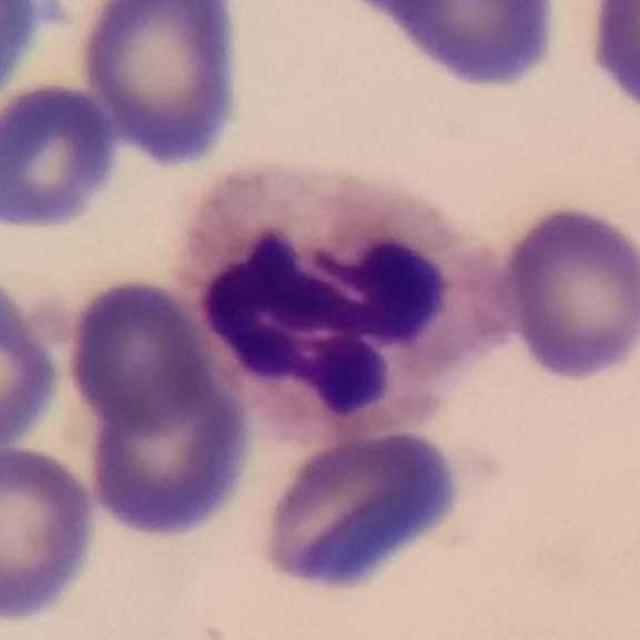Neutrophil: (164, 141, 511, 450)
RBC: (66, 276, 262, 550), (254, 424, 468, 600), (74, 0, 248, 169), (495, 200, 639, 384), (322, 0, 570, 96), (0, 77, 124, 235), (0, 440, 104, 626), (0, 271, 66, 452), (581, 0, 640, 126), (1, 0, 56, 119)
